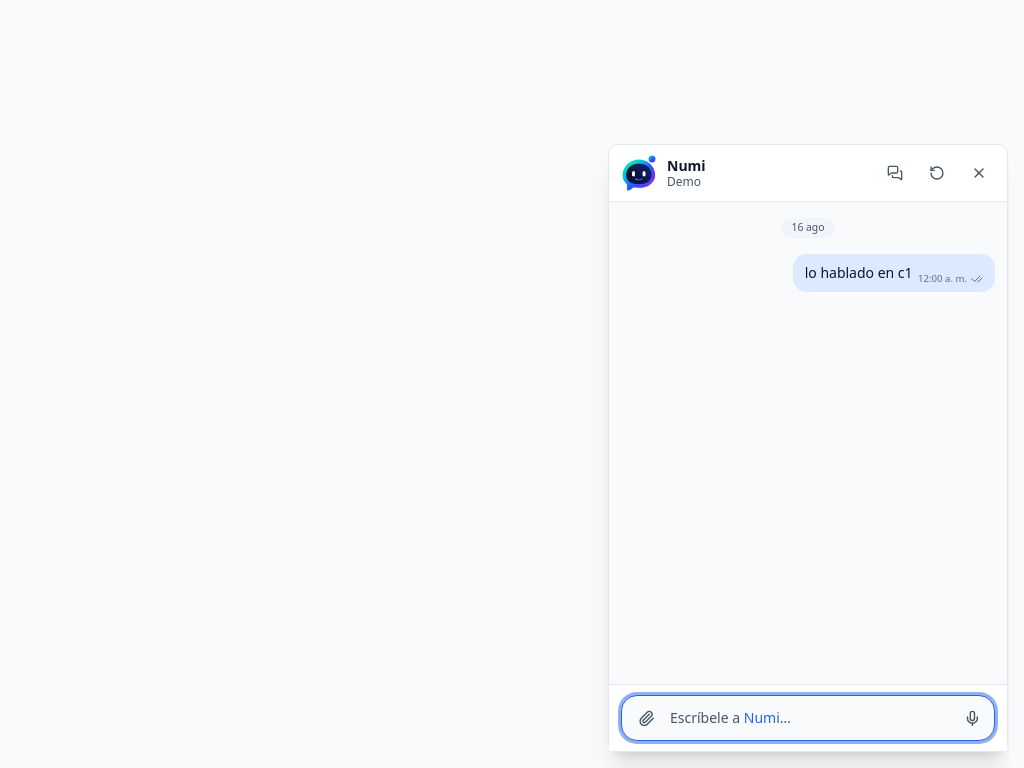
Test: la lista enseña cada conversación con su nombre y su tamaño
Click the button named "Ver mis conversaciones": (895,173) [879,157,911,189]
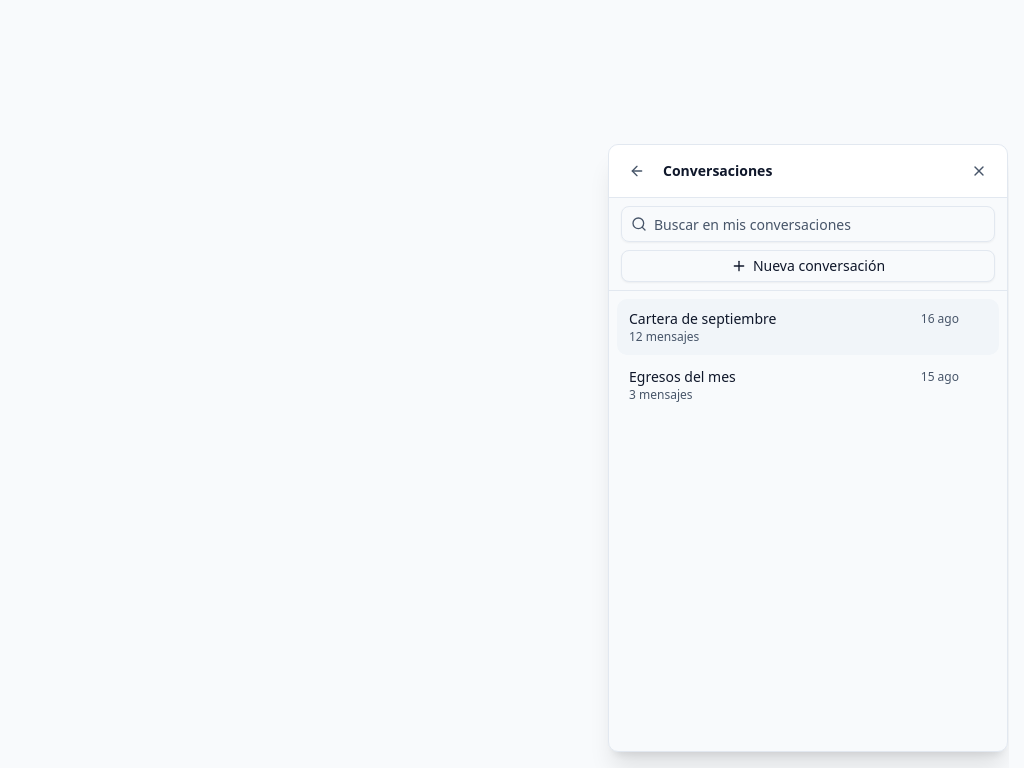
Check: the text "Cartera de septiembre" is shown, box [629,309,776,328]
Check: the text "Egresos del mes" is shown, box [629,367,736,386]
Check: the text "12 mensajes" is shown, box [629,328,699,345]
